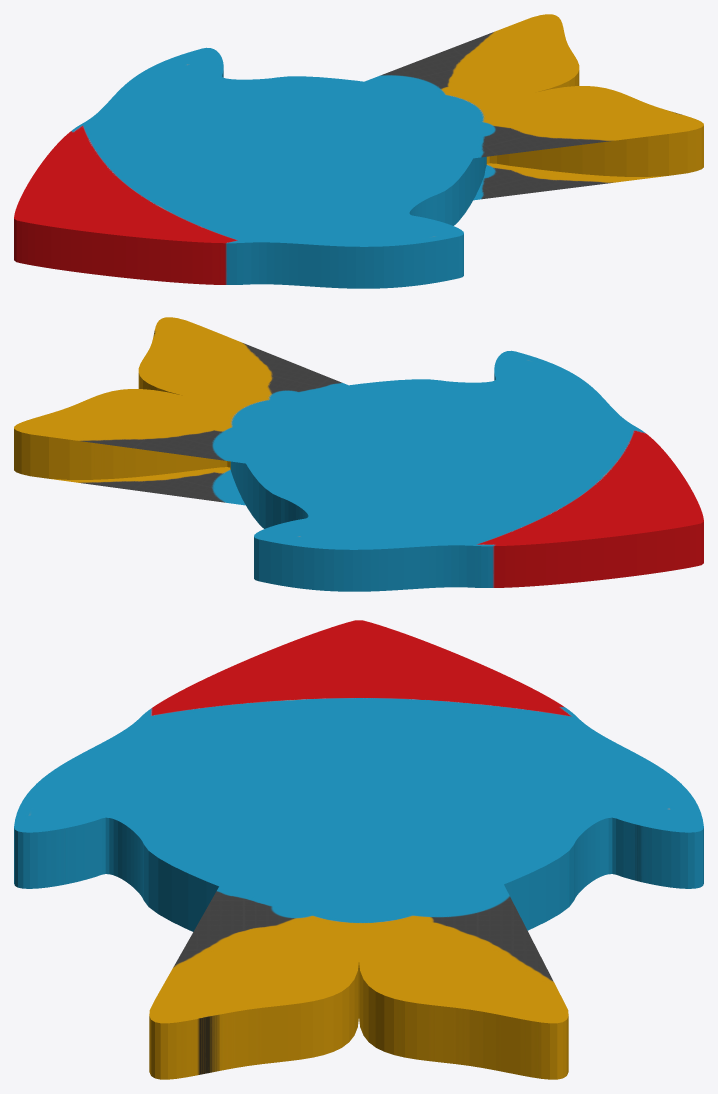
Rendered from Fish Mold.fbx.
The picture shows the model from 3 angles, top to bottom: view 1: azimuth 30°, elevation 25°; view 2: azimuth 150°, elevation 25°; view 3: azimuth 270°, elevation 25°; orthographic projection. The views are drawn at different scales.
Visible parts, largest first — view 1: part.002; view 2: part.002; view 3: part.002.
Part boxes in pixels (x1,y1,x2,y2): part.002: (14,14,703,288); part.002: (14,317,703,591); part.002: (14,620,703,1079).
Size of the model in its own units: 822 by 53.56 by 595.
Materials: 1 (1 with a texture image).
